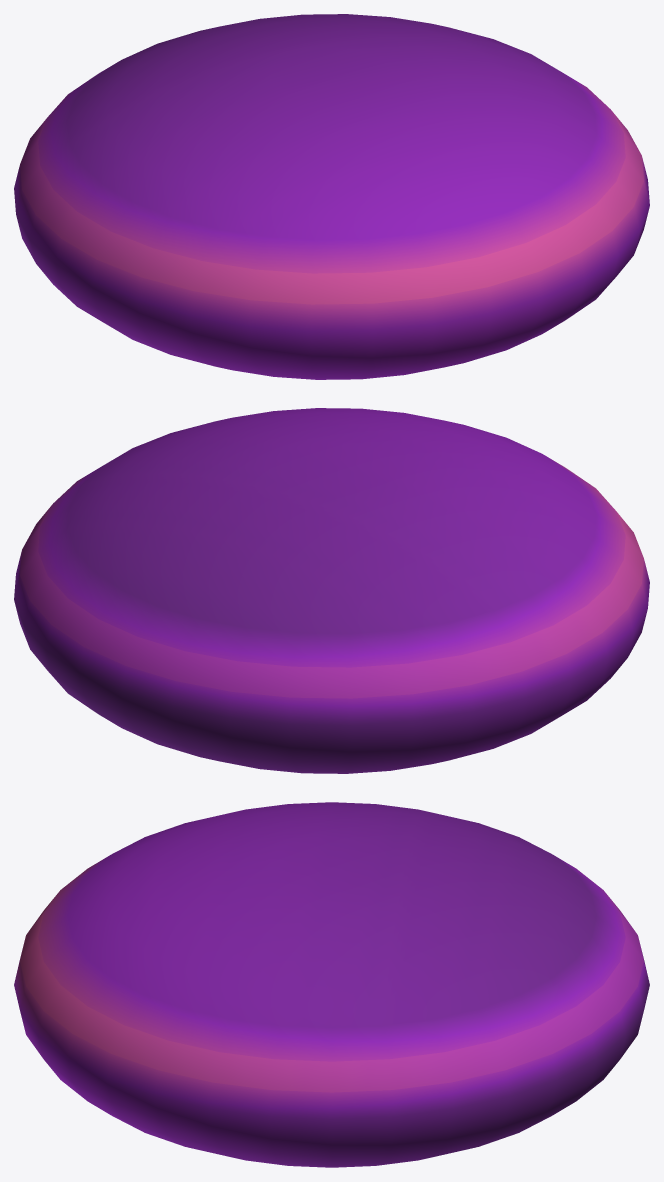
The model's file is Bonibon_02.fbx.
3 renders of one model, top to bottom at view 1: azimuth 30°, elevation 25°; view 2: azimuth 150°, elevation 25°; view 3: azimuth 270°, elevation 25°, orthographic.
Visible parts, largest first — view 1: Bonibon_02; view 2: Bonibon_02; view 3: Bonibon_02.
Part boxes in pixels (box(x1,y1,x2,y2)): Bonibon_02: box(14, 14, 649, 379); Bonibon_02: box(14, 408, 649, 773); Bonibon_02: box(14, 802, 649, 1167).
Bounding box in the file's own units: 113 × 47.58 × 113.
